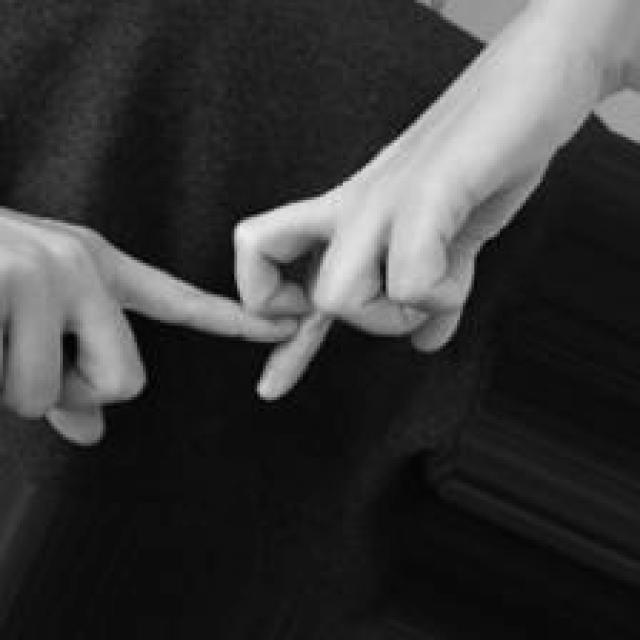R: (3, 74, 560, 450)
